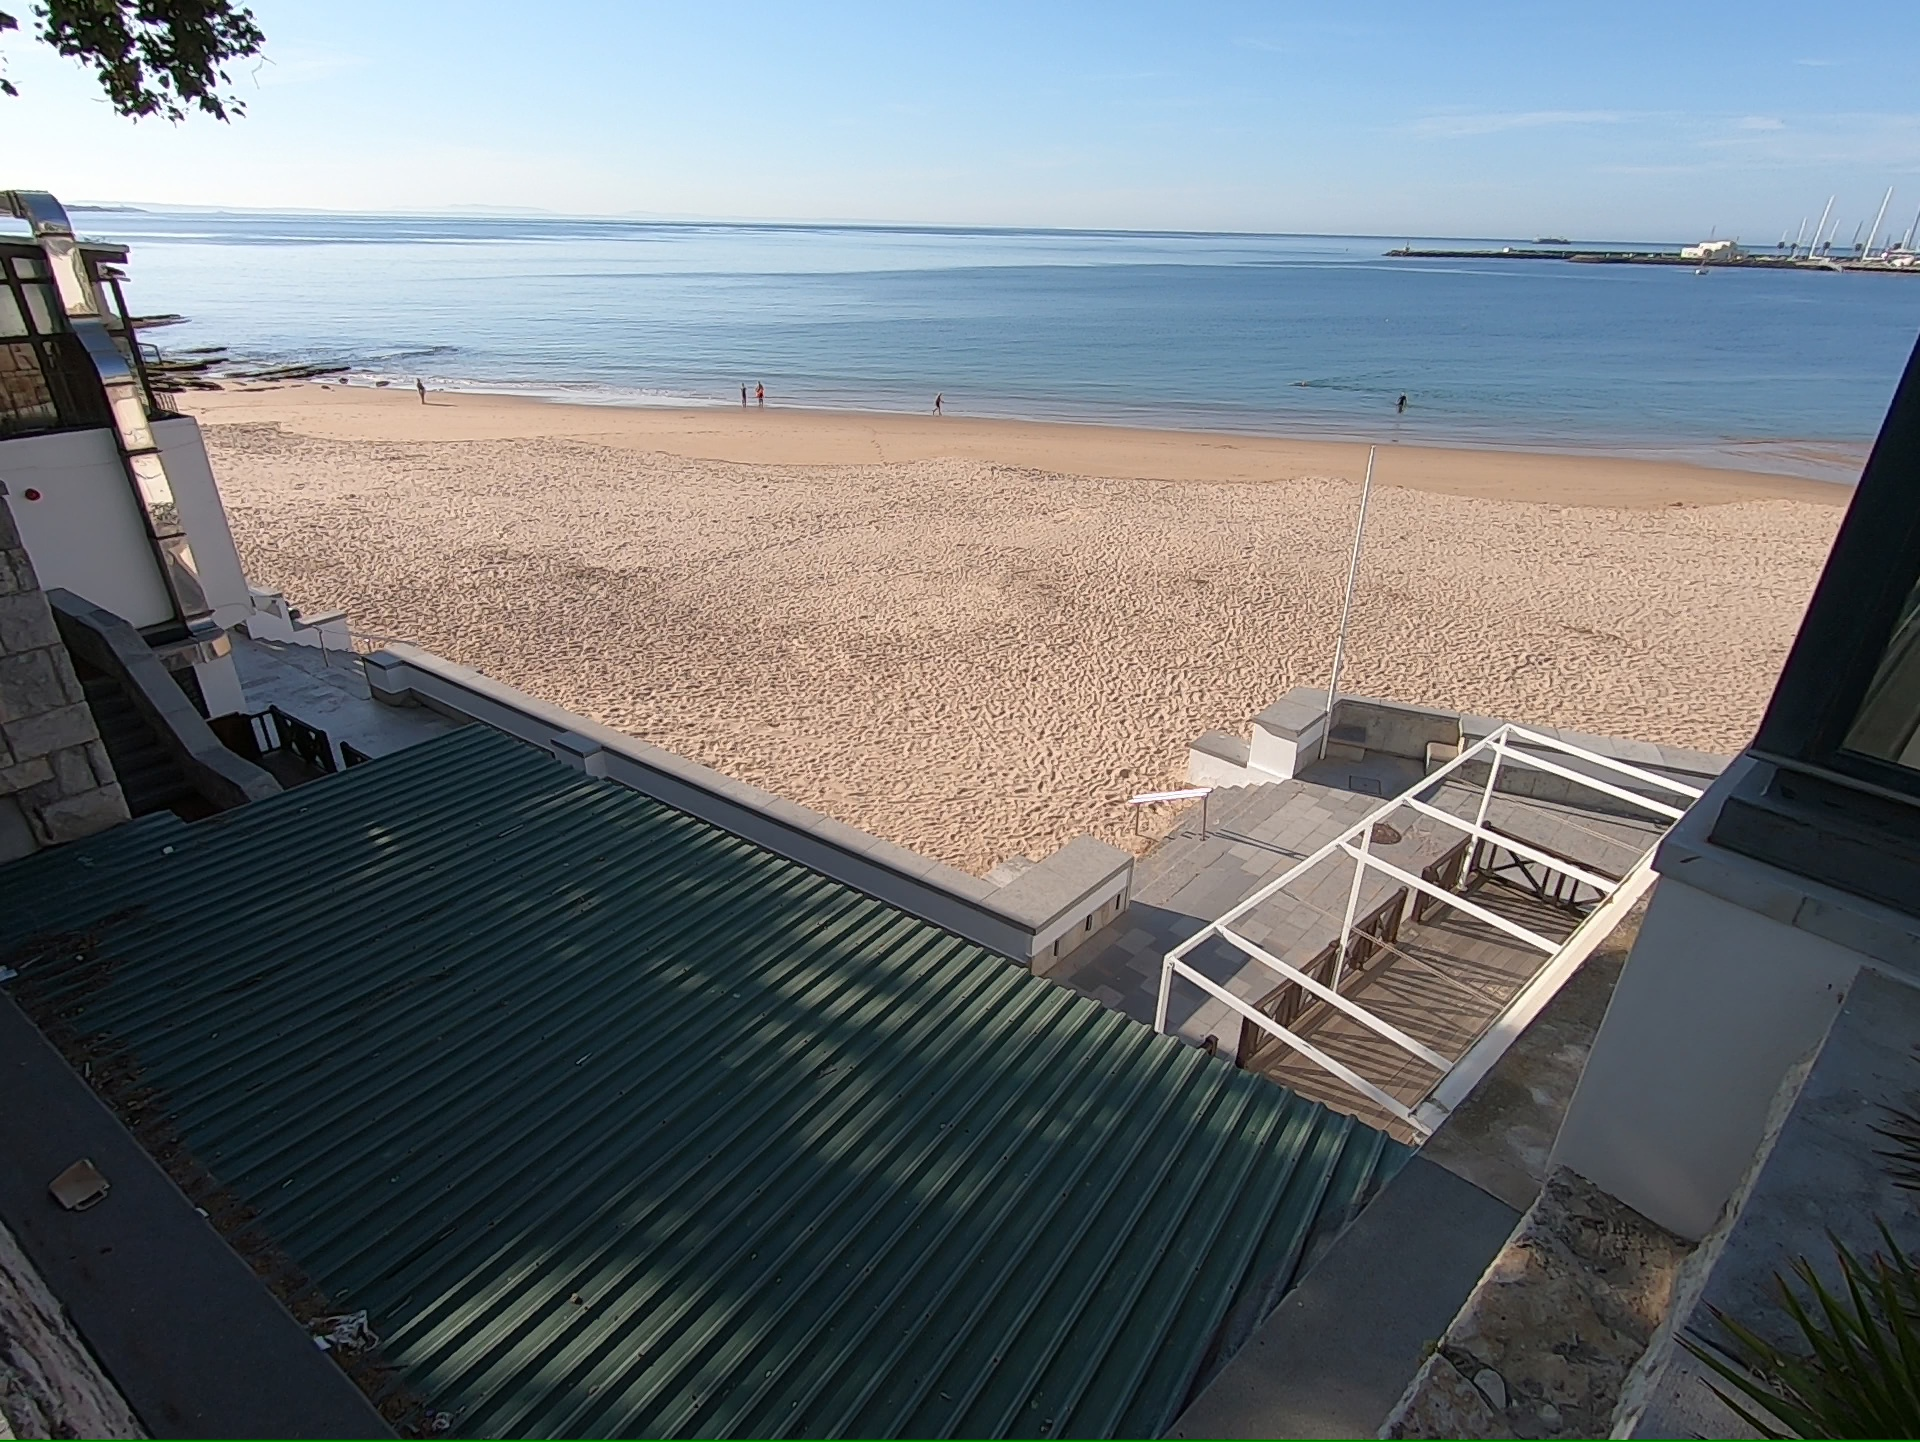person: (413, 375, 428, 405), (931, 390, 946, 417), (753, 380, 767, 406), (1394, 391, 1409, 411), (739, 381, 747, 411)
